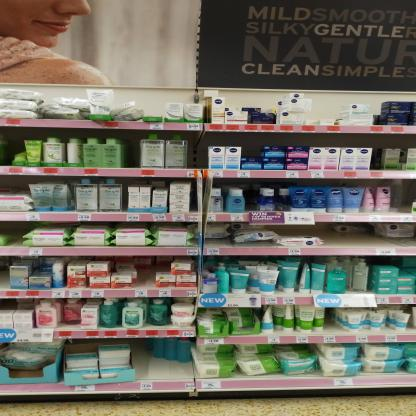Void: (327, 223, 376, 247), (269, 134, 367, 145), (138, 358, 186, 379), (188, 130, 208, 170), (311, 100, 342, 124), (230, 94, 276, 107), (125, 130, 141, 165), (141, 92, 164, 116), (135, 256, 152, 286), (5, 127, 21, 153), (376, 136, 411, 146), (394, 181, 406, 210), (7, 223, 22, 245), (2, 178, 25, 192), (246, 134, 261, 154), (213, 134, 239, 144), (174, 92, 199, 102), (33, 260, 50, 273), (370, 95, 382, 113), (157, 255, 170, 268)
